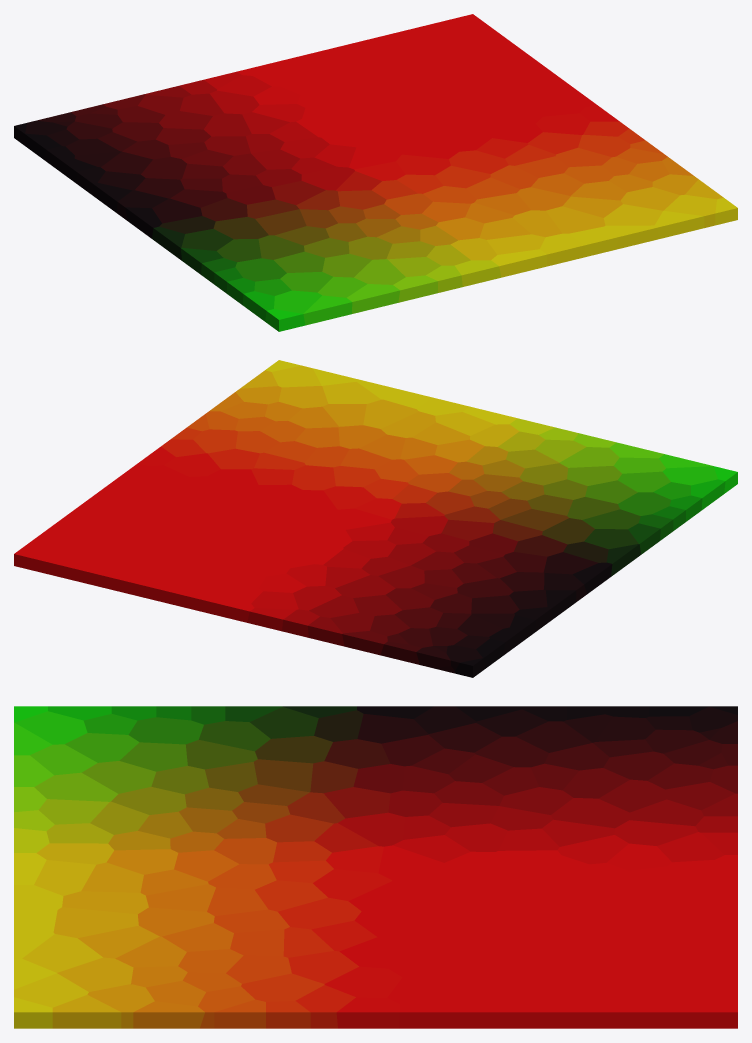
File: FX_Mesh_Offset_Pos_Ground.fbx
The picture shows the model from 3 angles, top to bottom: view 1: azimuth 30°, elevation 25°; view 2: azimuth 150°, elevation 25°; view 3: azimuth 270°, elevation 25°; orthographic projection. The views are drawn at different scales.
Visible parts, largest first — view 1: blast1; view 2: blast1; view 3: blast1.
Boxes of the visible parts, x1,y1,x2,y2 form: blast1: (14, 14, 737, 331); blast1: (14, 360, 737, 677); blast1: (14, 706, 737, 1028).
Size of the model in its own units: 2 by 0.05 by 2.
